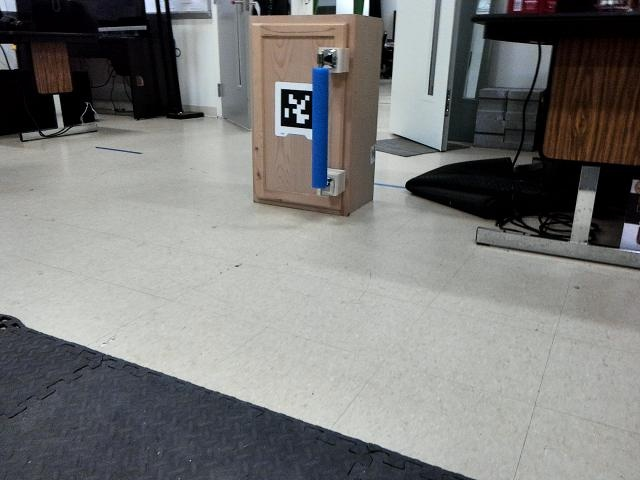noodle_handle: (306, 62, 335, 193)
